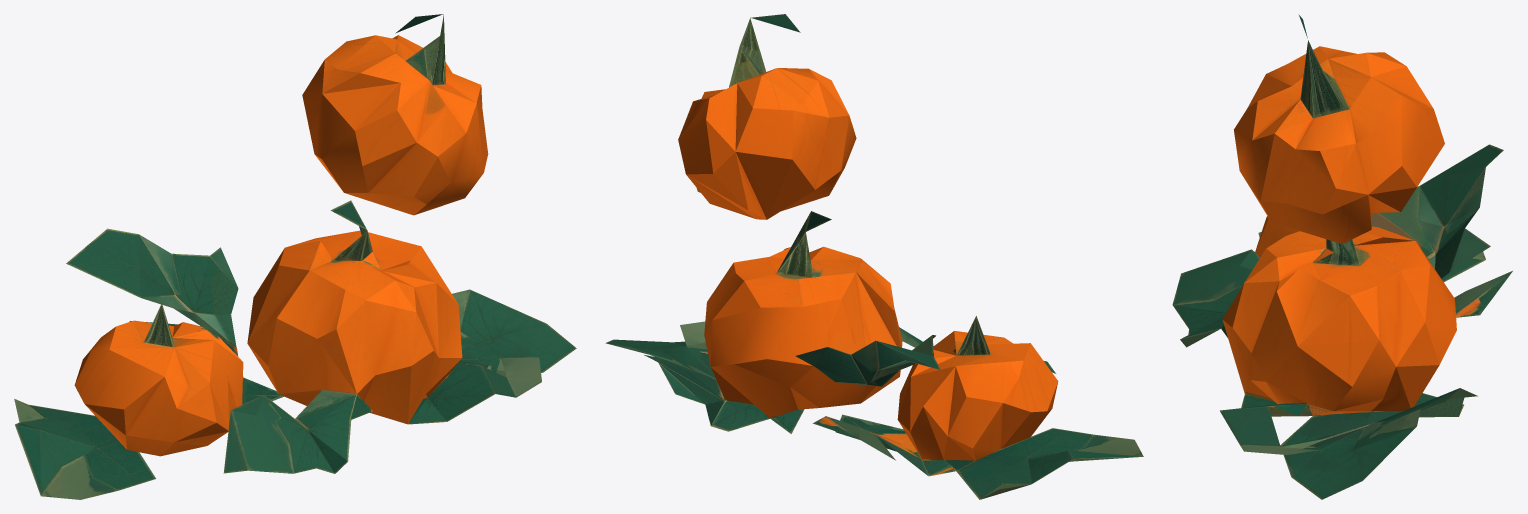
File: pumpkin_vines_with_pumpkins.glb
3 renders of one model, left to right at view 1: azimuth 30°, elevation 25°; view 2: azimuth 150°, elevation 25°; view 3: azimuth 270°, elevation 25°, orthographic. The views are drawn at different scales.
Size of the model in its own units: 1.85 by 1.24 by 0.9493.
Materials: 1 (1 with a texture image).
